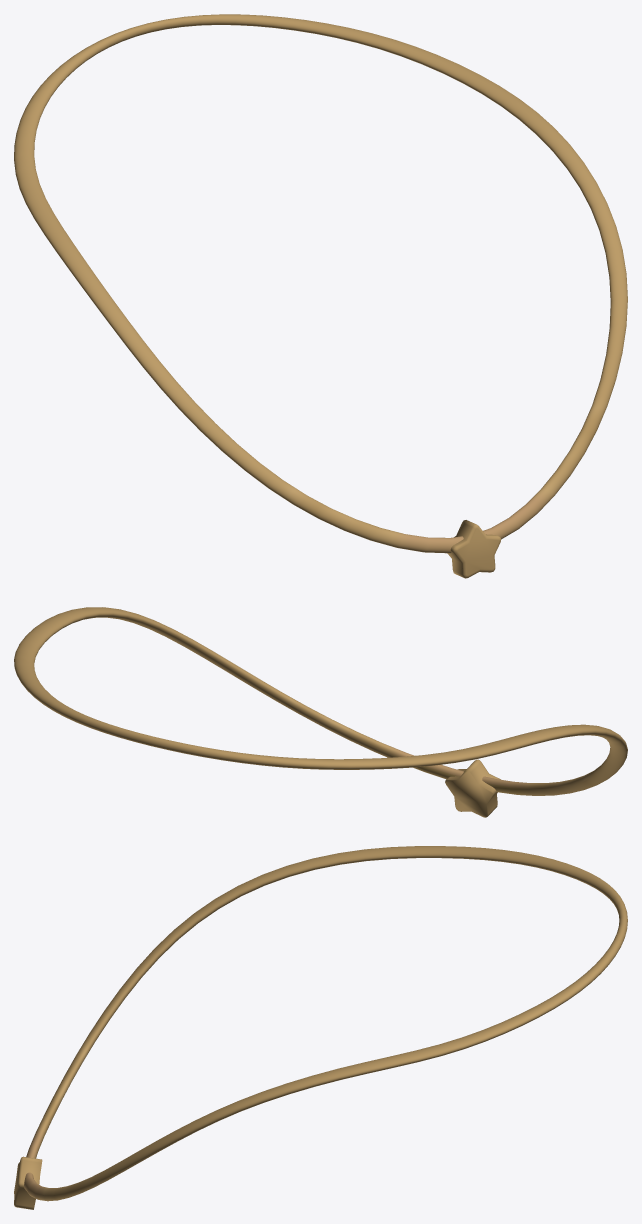
File: necklace2.glb
3 renders of one model, top to bottom at view 1: azimuth 30°, elevation 25°; view 2: azimuth 150°, elevation 25°; view 3: azimuth 270°, elevation 25°, orthographic. The views are drawn at different scales.
Parts seen in each view (by area): view 1: necklace.002; view 2: necklace.002; view 3: necklace.002.
Part boxes in pixels (left/top/right/bottom): necklace.002: left=14, top=14, right=627, bottom=578; necklace.002: left=14, top=607, right=627, bottom=817; necklace.002: left=14, top=846, right=627, bottom=1209.
Size of the model in its own units: 0.7291 by 0.4337 by 0.8391.
1 material, 1 textured.
